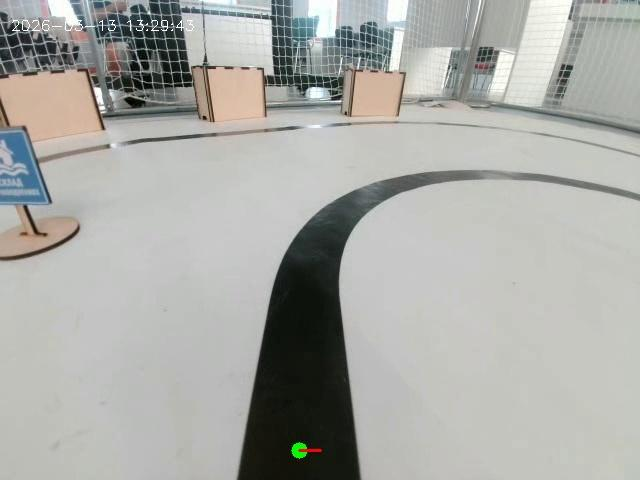flood: (0, 118, 89, 268)
